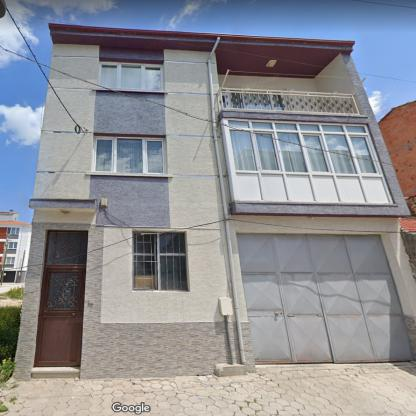door: (242, 272, 334, 362), (34, 268, 84, 367)
window: (223, 118, 382, 176), (132, 232, 188, 290), (91, 136, 166, 175), (99, 61, 164, 90), (44, 230, 87, 266), (6, 228, 19, 234), (7, 242, 17, 249), (6, 257, 14, 264)
